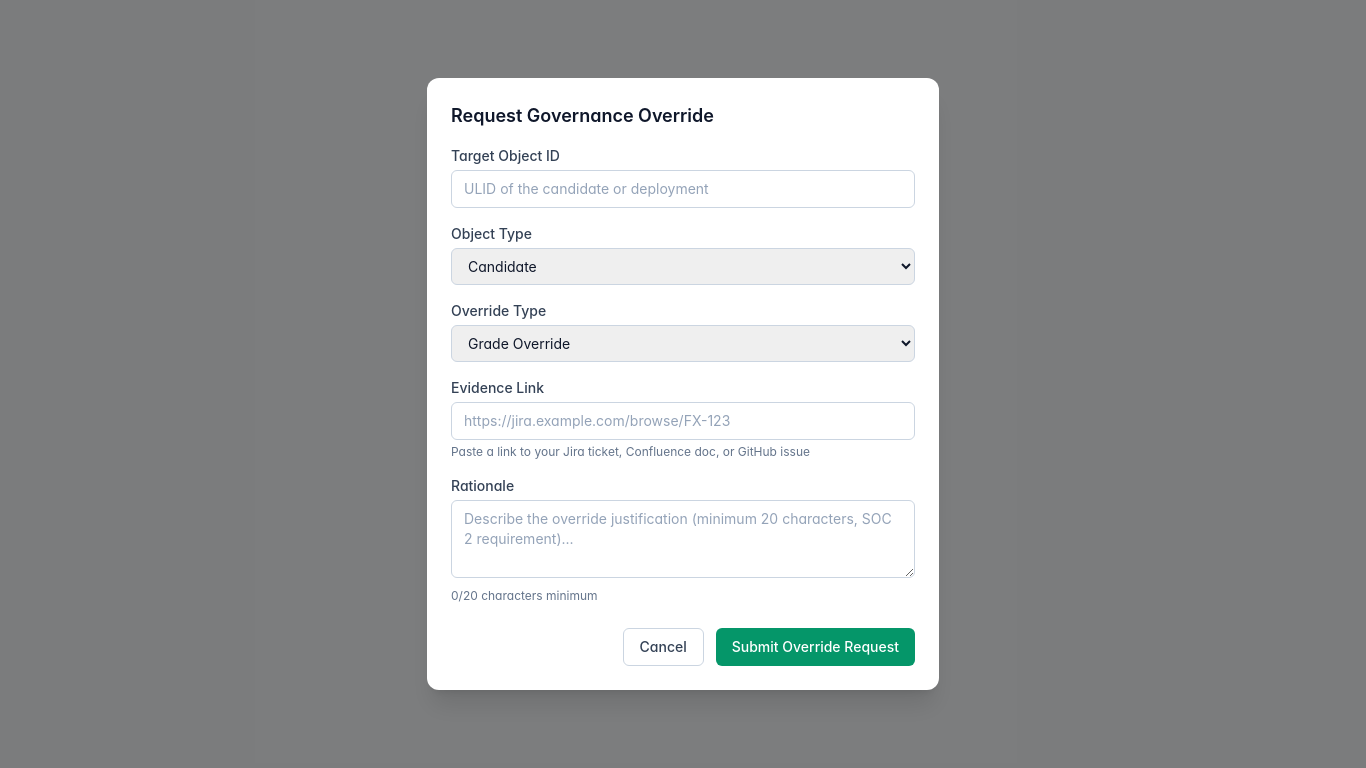
Test case: OverrideRequestForm › shows rationale character count
The width and height of the screenshot is (1366, 768).
Expected: the text "0/20 characters minimum" is shown, top-left (451, 588), bottom-right (598, 603)
Replace the text in the text box with test id "override-rationale-input" with "twelve chars" at x=683, y=539, box top-left (451, 500), bottom-right (915, 578)
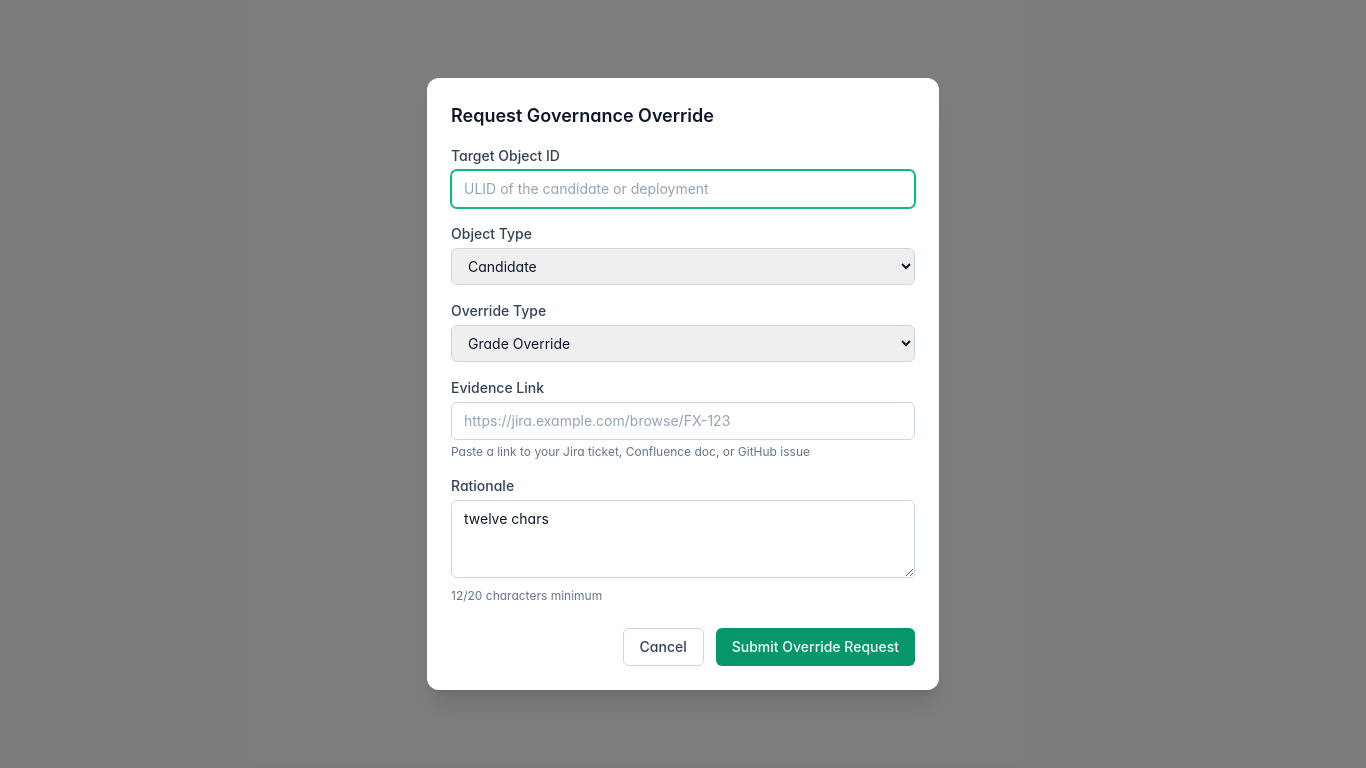
Expected: the text "12/20 characters minimum" is shown, top-left (451, 588), bottom-right (602, 603)
